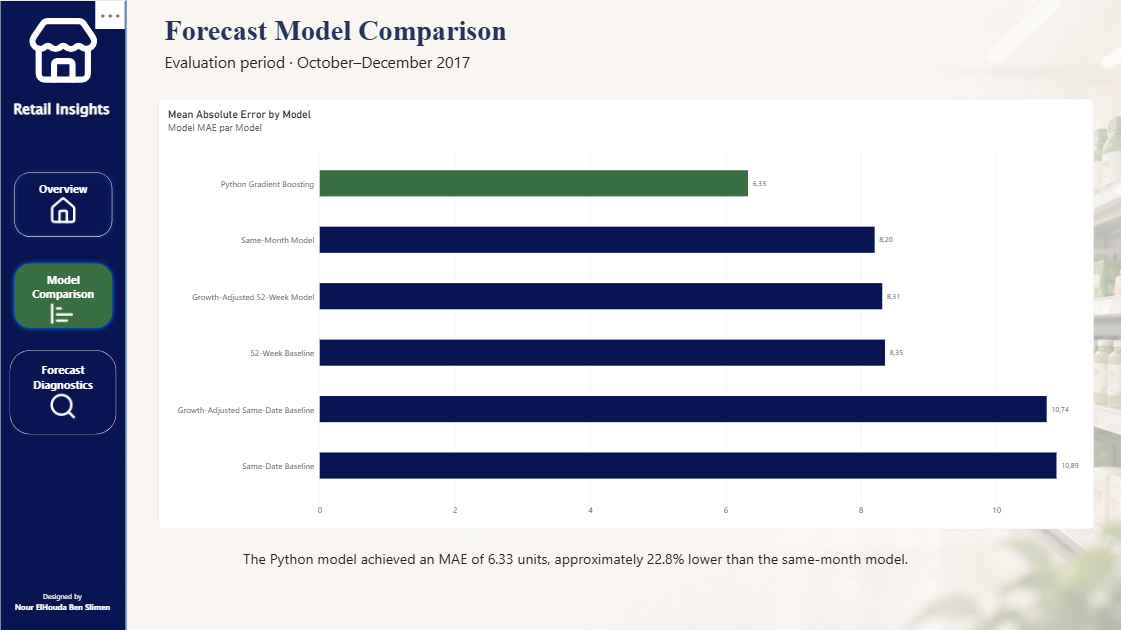

What the dashboard file says about the page in this screenshot:
{"tool":"powerbi","page":{"name":"Model Comparison","canvas":[1920,1080],"ordinal":4},"visuals":[{"type":"textbox","box":[286,26,1571,57],"z":0},{"type":"textbox","box":[286,88,1301.9,39.4],"z":1000},{"type":"clusteredBarChart","title":"\tMean Absolute Error by Model","fields":{"Category":["Forecast Models.Model"],"Y":["Evaluation_52Weeks.Model MAE"]},"box":[274.1,169,1593.1,732.8],"z":2000},{"type":"textbox","box":[380.1,933.6,1207.4,63],"z":3000},{"type":"shape","box":[3.3,0,216.7,1080.2],"z":4000},{"type":"actionButton","box":[20.7,284.5,183.1,126.1],"z":5000},{"type":"actionButton","box":[20.7,441.4,183.1,126.1],"z":6000},{"type":"actionButton","box":[20.7,596.6,182,144],"z":7000},{"type":"image","box":[39.7,25.9,144.8,125.9],"z":8000},{"type":"textbox","box":[20.7,169,177.6,39.7],"z":9000},{"type":"textbox","box":[20,1004,184,62],"z":10000}]}

Visuals, with their boxes on the page's 1920x1080 design canvas (x1, y1, x2, y2). These are canvas units, not pixel positions in the 1121x630 screenshot, which may show the page scaled, cropped or inside an application window:
textbox: <region>286, 26, 1857, 83</region>
textbox: <region>286, 88, 1588, 127</region>
"	Mean Absolute Error by Model" clusteredBarChart: <region>274, 169, 1867, 902</region>
textbox: <region>380, 934, 1588, 997</region>
shape: <region>3, 0, 220, 1080</region>
actionButton: <region>21, 284, 204, 411</region>
actionButton: <region>21, 441, 204, 568</region>
actionButton: <region>21, 597, 203, 741</region>
image: <region>40, 26, 184, 152</region>
textbox: <region>21, 169, 198, 209</region>
textbox: <region>20, 1004, 204, 1066</region>
